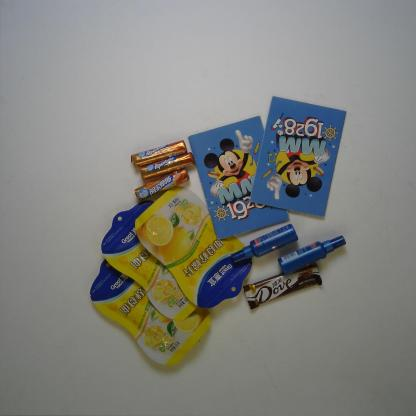Candy: (134, 168, 191, 201), (138, 151, 196, 180), (130, 140, 188, 168)
Chocolate: (242, 262, 323, 310)
Dried Fruit: (100, 200, 222, 322), (134, 186, 254, 310), (89, 255, 212, 367)
Personal Hygiene: (277, 234, 346, 276), (230, 223, 299, 264)
Stationery: (187, 113, 290, 242), (248, 95, 346, 219)
